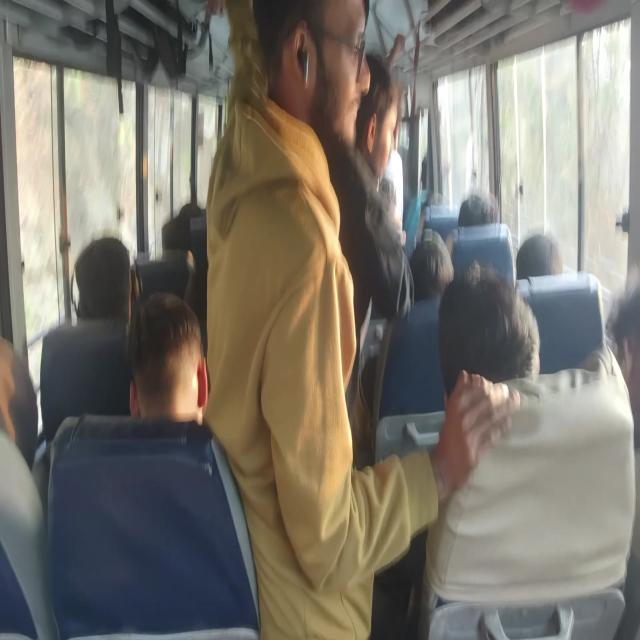person: (441, 280, 584, 507), (258, 2, 368, 134), (142, 291, 229, 444), (332, 45, 388, 180), (86, 235, 140, 337), (0, 347, 34, 506), (526, 230, 589, 298), (612, 298, 640, 421), (414, 232, 459, 305), (408, 133, 443, 194), (168, 188, 215, 230), (166, 213, 197, 270), (451, 195, 492, 226)
